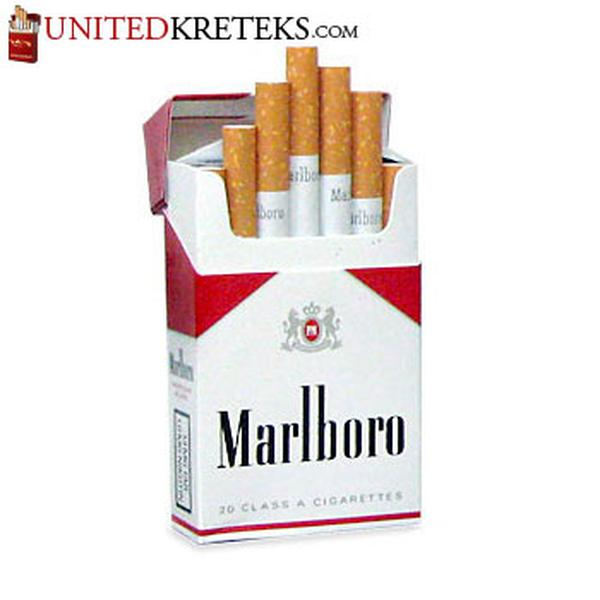marlboro_red: (193, 171, 419, 526)
